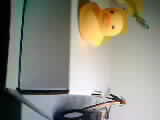duck: (72, 7, 138, 53)
